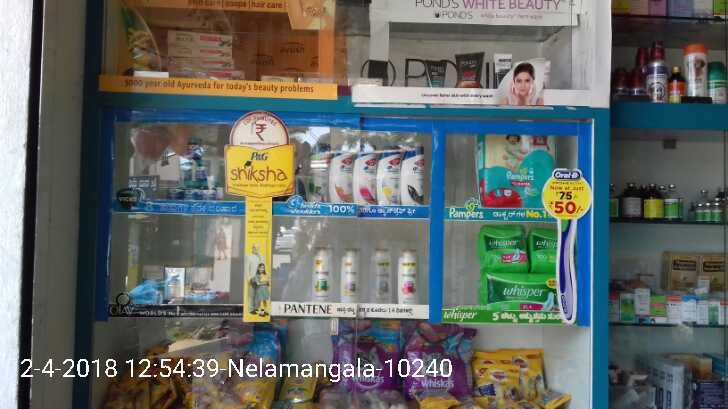vicks: (165, 137, 222, 200)
